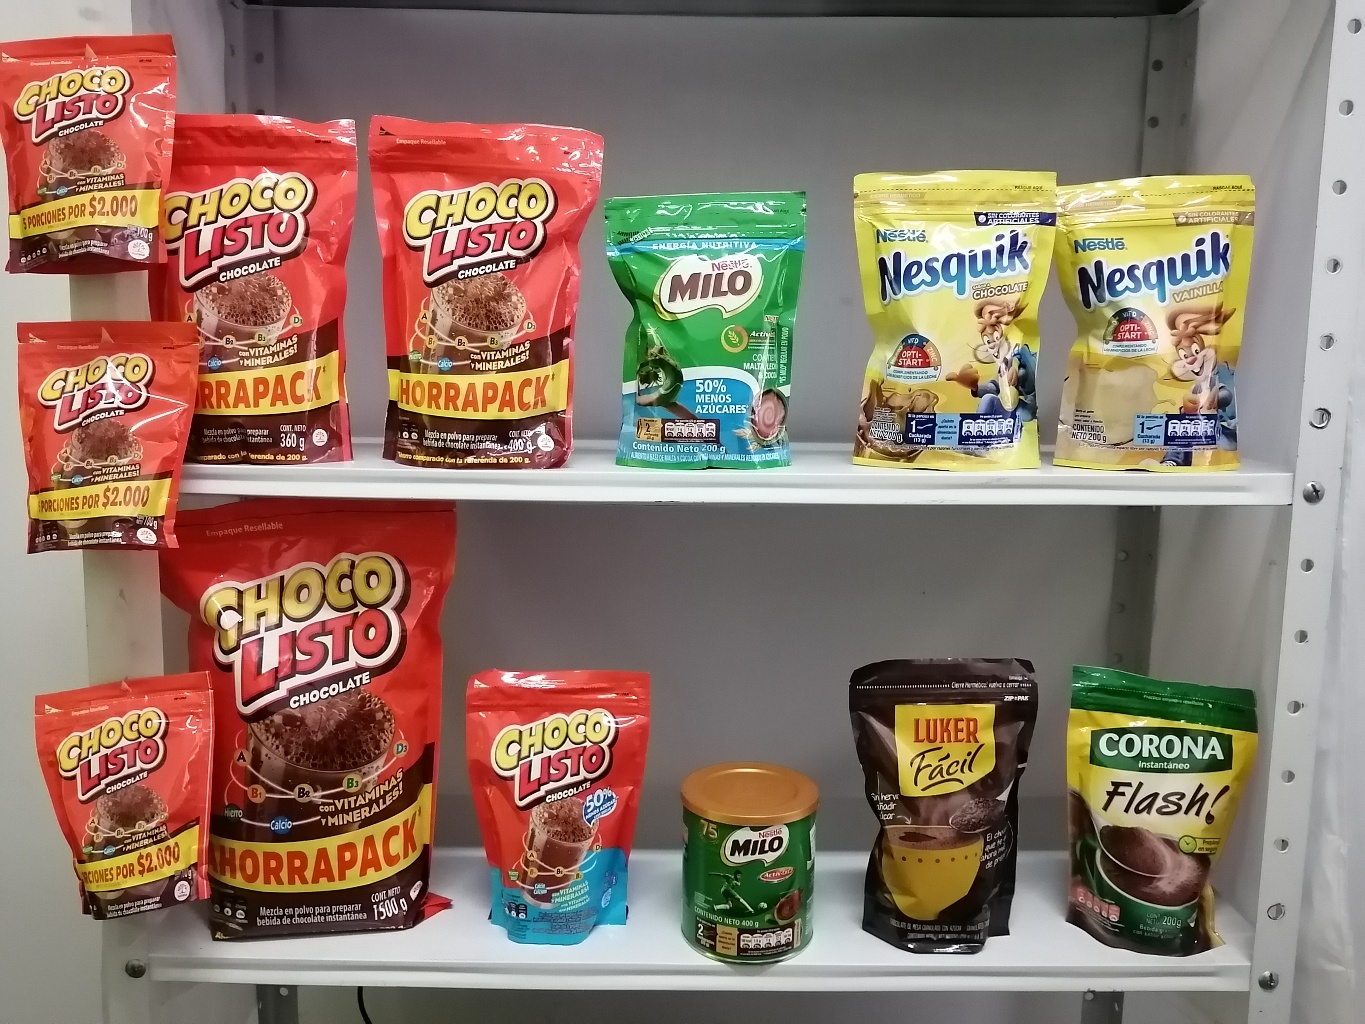COL0170103DYP1,500: (144, 490, 484, 958)
COL0170103DYP10000: (5, 27, 184, 278)
COL0170103DYP36000: (136, 105, 373, 478)
COL0170103DYP40000: (362, 110, 612, 479)
COL0170104DYP20000: (461, 662, 662, 953)
COL0170203LAT40000: (664, 752, 847, 970)
COL0170205DYP20000: (602, 177, 810, 477)
COL0170303DYP20000: (847, 161, 1064, 480)
COL0170306DYP20000: (1042, 160, 1285, 474)
